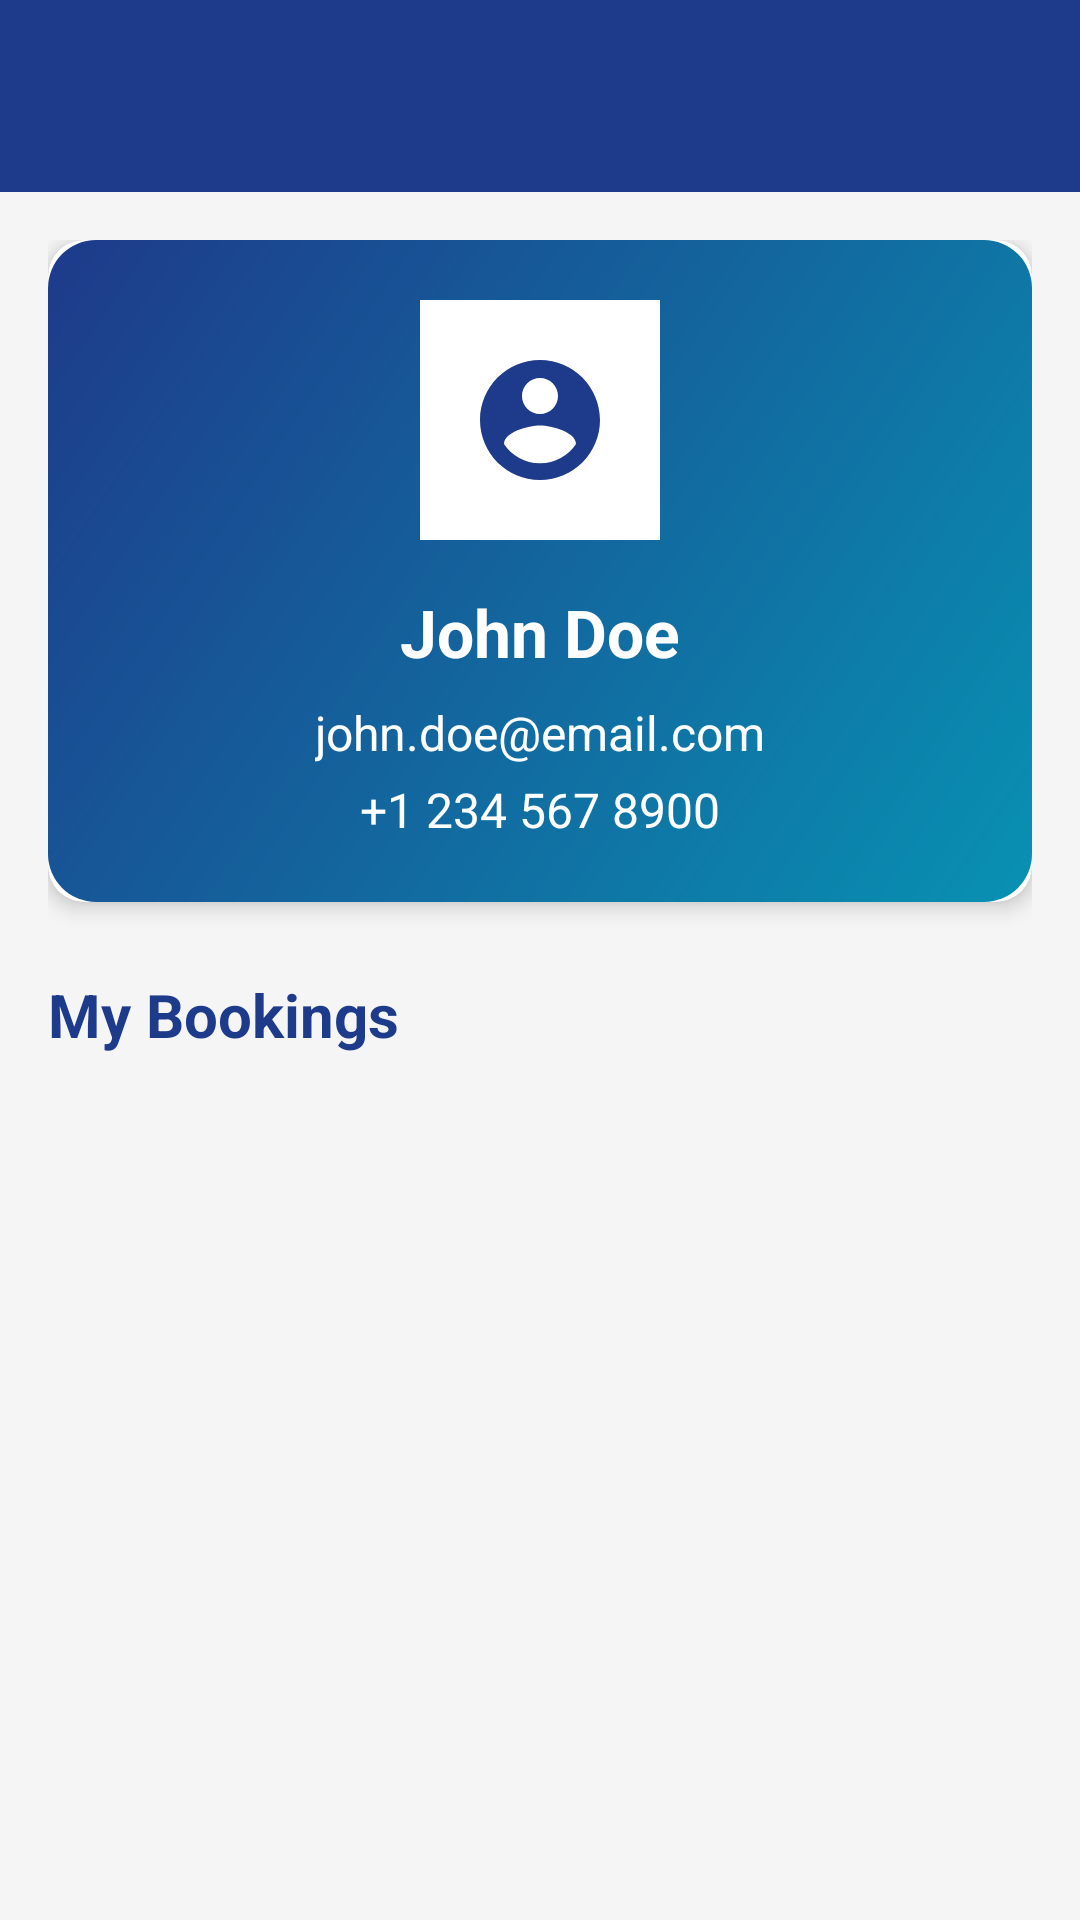

Where to tap for icons on this 1080px x 1920px app screen, as (x=x, y=y):
profile: (x=540, y=420)
